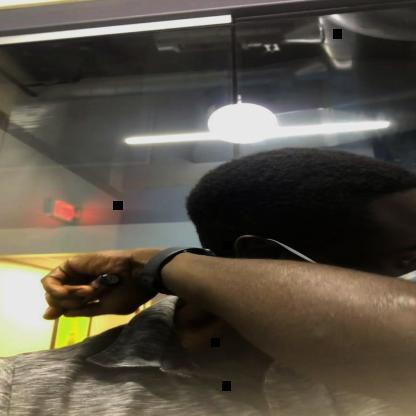mask: (242, 188, 416, 293)
